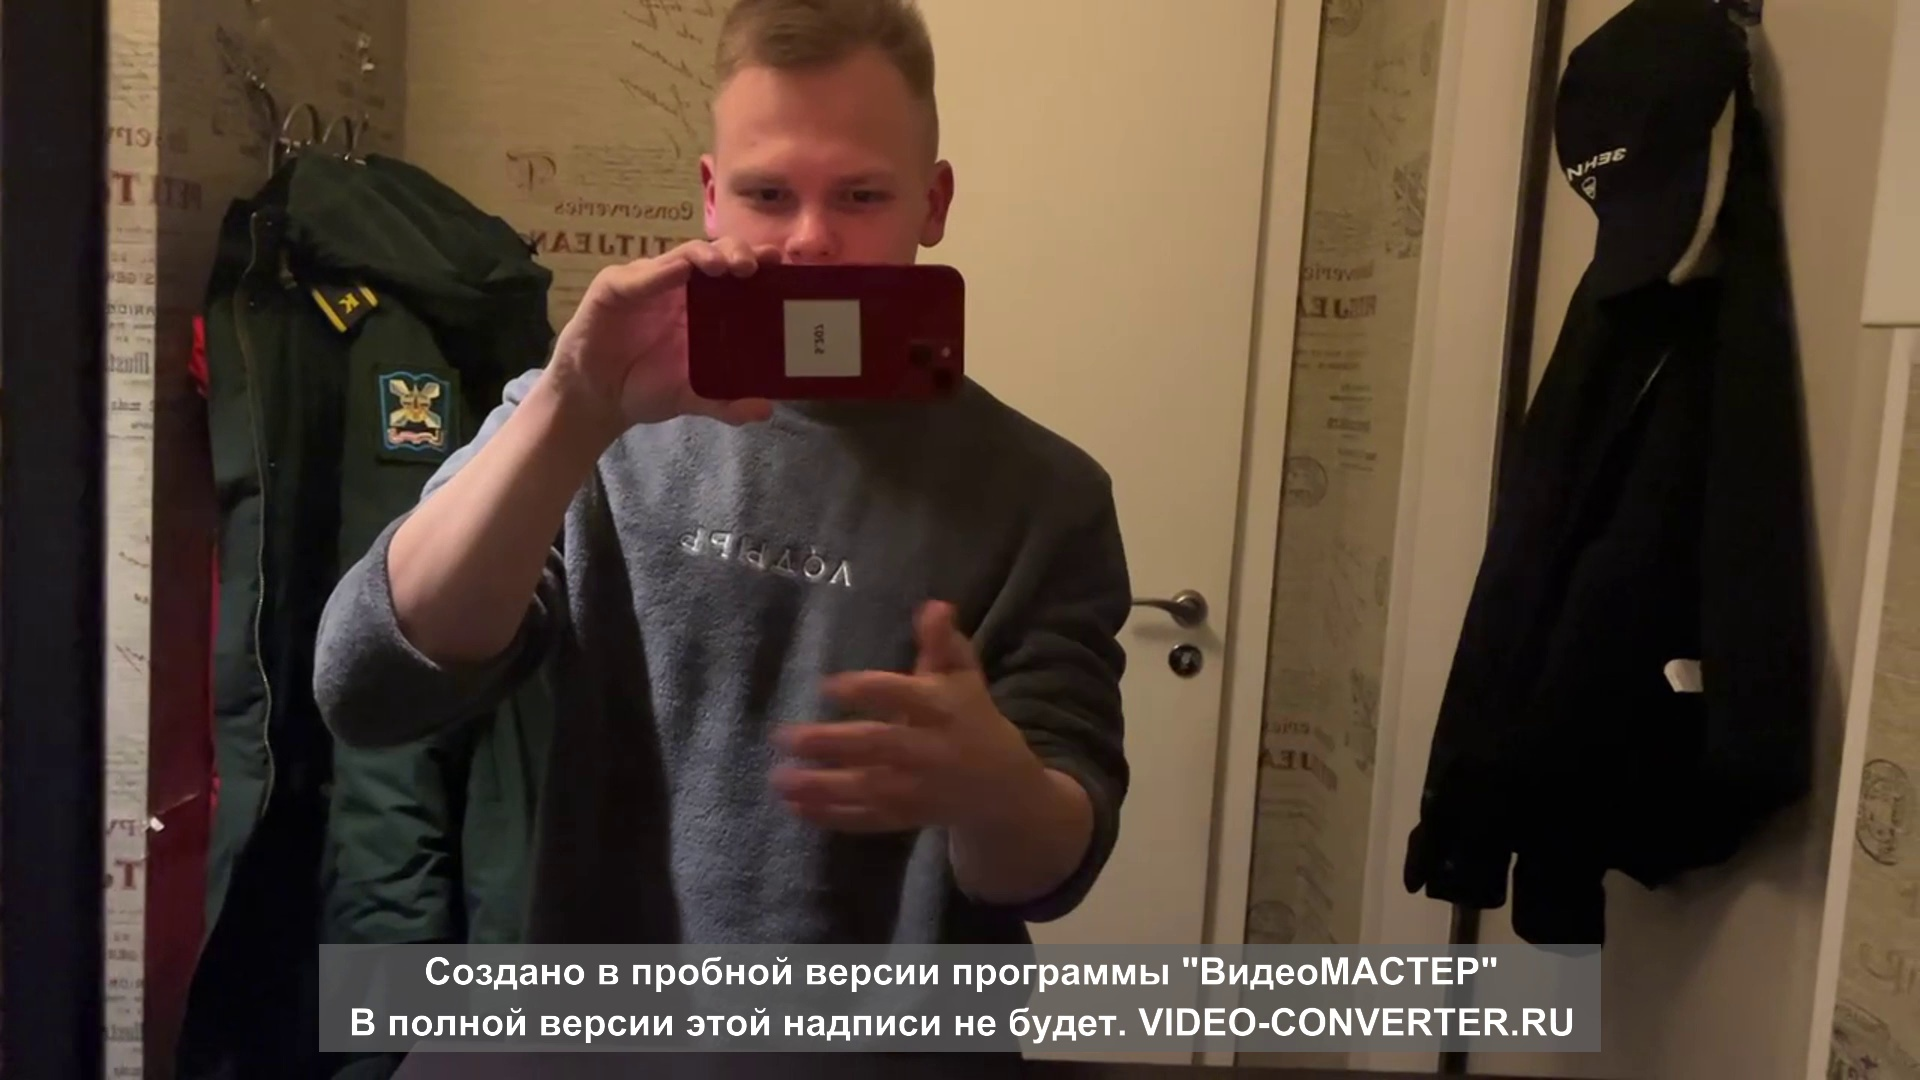Кисть: (781, 599, 998, 836)
